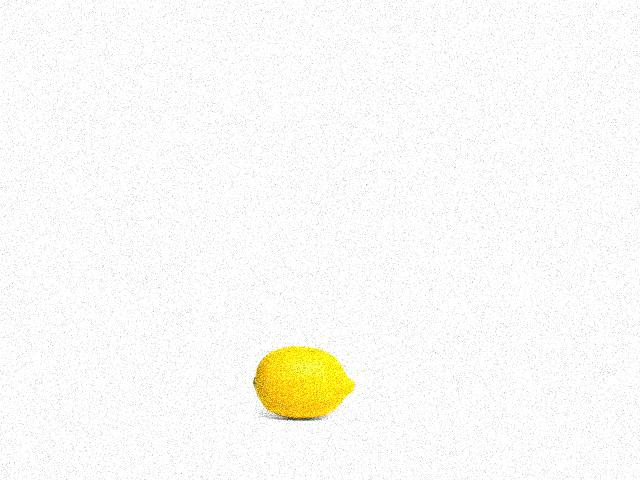lemon: (248, 344, 359, 419)
